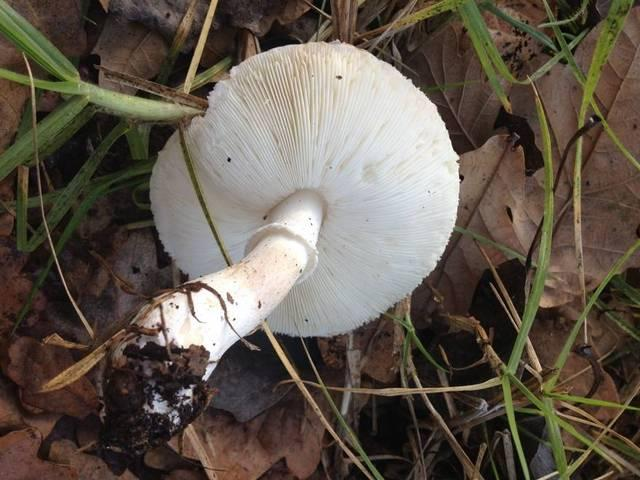poisonous_mushroom: (98, 39, 462, 453)
